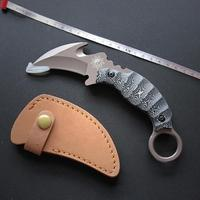knife: (22, 34, 183, 160)
